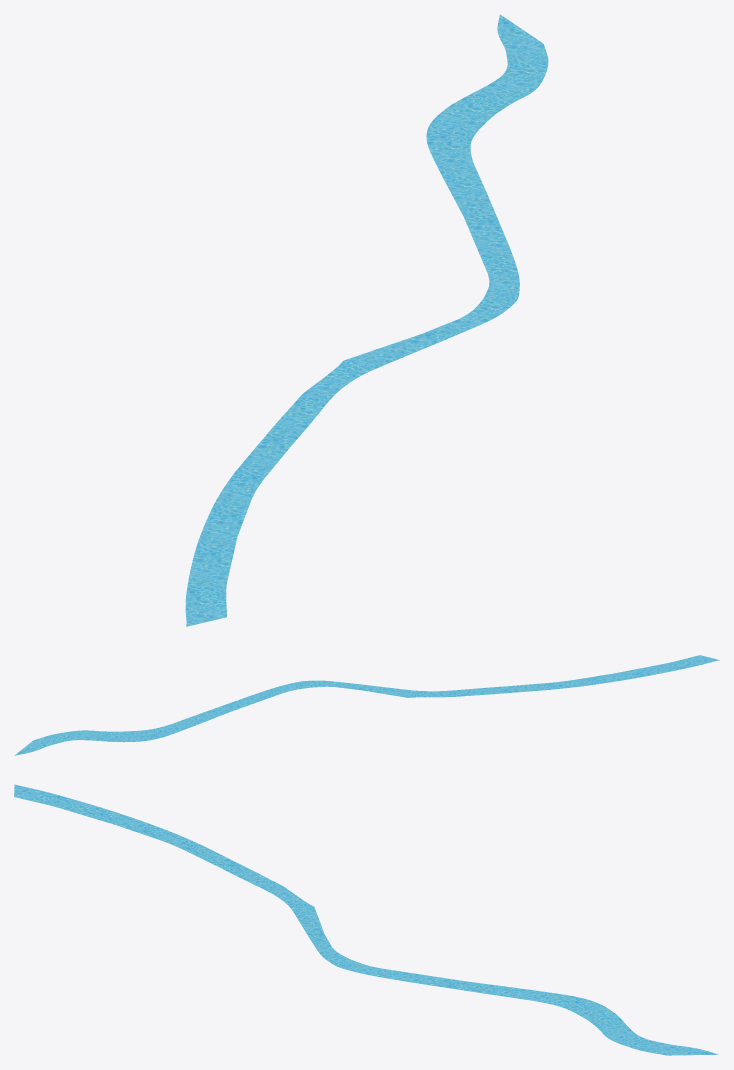
The model's file is shui.glb.
3 renders of one model, top to bottom at view 1: azimuth 30°, elevation 25°; view 2: azimuth 150°, elevation 25°; view 3: azimuth 270°, elevation 25°, orthographic. The views are drawn at different scales.
Visible parts, largest first — view 1: Asset3DLoader.sceneRoot; view 2: Asset3DLoader.sceneRoot; view 3: Asset3DLoader.sceneRoot.
Boxes of the visible parts, x1=… form: Asset3DLoader.sceneRoot: x1=185, y1=14, x2=548, y2=626; Asset3DLoader.sceneRoot: x1=14, y1=655, x2=719, y2=755; Asset3DLoader.sceneRoot: x1=14, y1=784, x2=718, y2=1055.
Bounding box in the file's own units: 774 × 0 × 851.
1 material, 1 textured.
